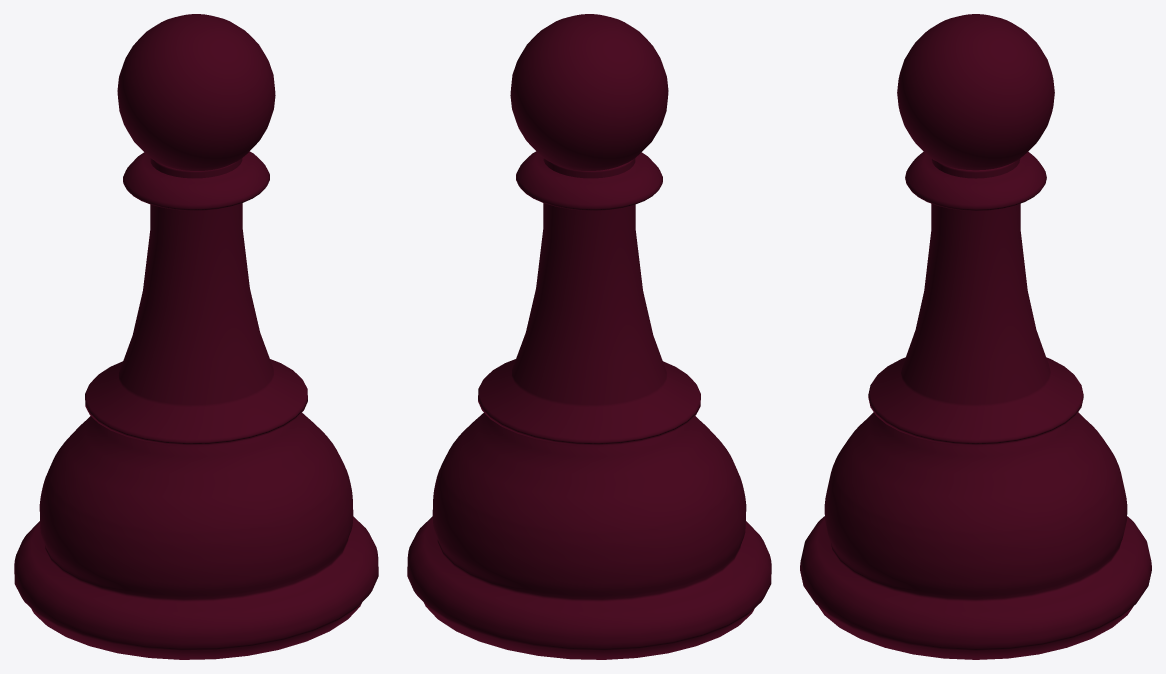
File: gercek3_p_b.glb
3 renders of one model, left to right at view 1: azimuth 30°, elevation 25°; view 2: azimuth 150°, elevation 25°; view 3: azimuth 270°, elevation 25°, orthographic.
Visible parts, largest first — view 1: Object_12; view 2: Object_12; view 3: Object_12.
Part boxes in pixels (bbox=[...]): Object_12: bbox=[14, 14, 378, 659]; Object_12: bbox=[407, 14, 771, 659]; Object_12: bbox=[800, 14, 1151, 659].
Bounding box in the file's own units: 1.17 × 1.99 × 1.12.
